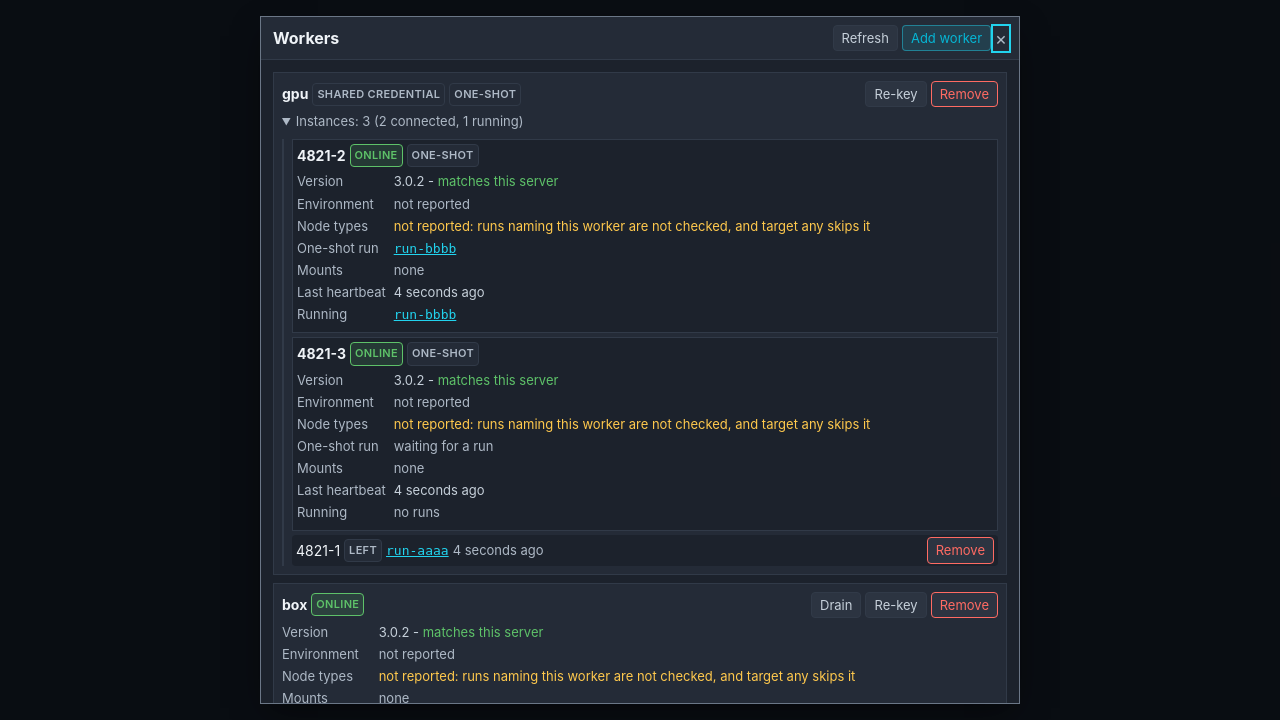
Test case: WorkersPanel › groups the instances of a shared credential under it (#845)
This screenshot has width=1280, height=720.
Expected: the button "run-aaaa" is shown, left=386, top=543, right=449, bottom=558
Expected: the text titled "Last heartbeat" in the row of "4821-1" reads "4 seconds ago", left=453, top=542, right=544, bottom=558
Click the button "Remove" in the row of "Shared credential": (964, 94) left=931, top=81, right=998, bottom=107
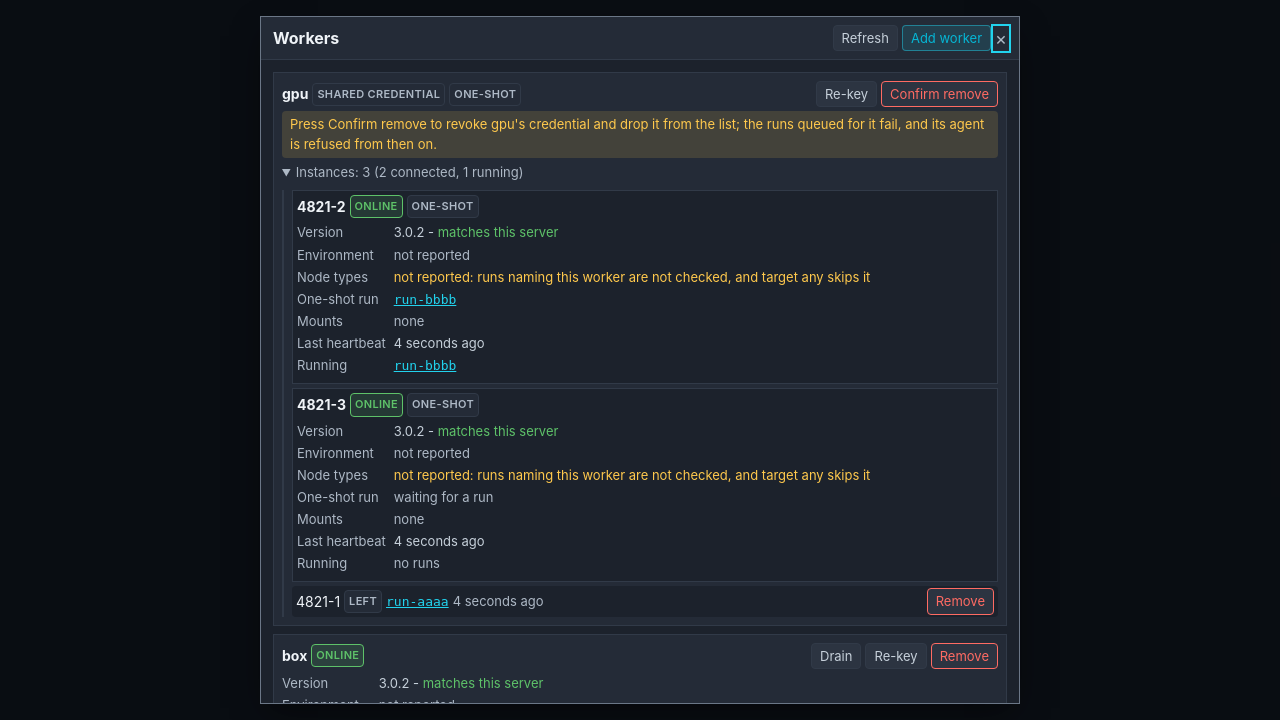
Expected: the button "Confirm remove" is shown
Click the button "Confirm remove": (940, 94) left=881, top=81, right=998, bottom=107
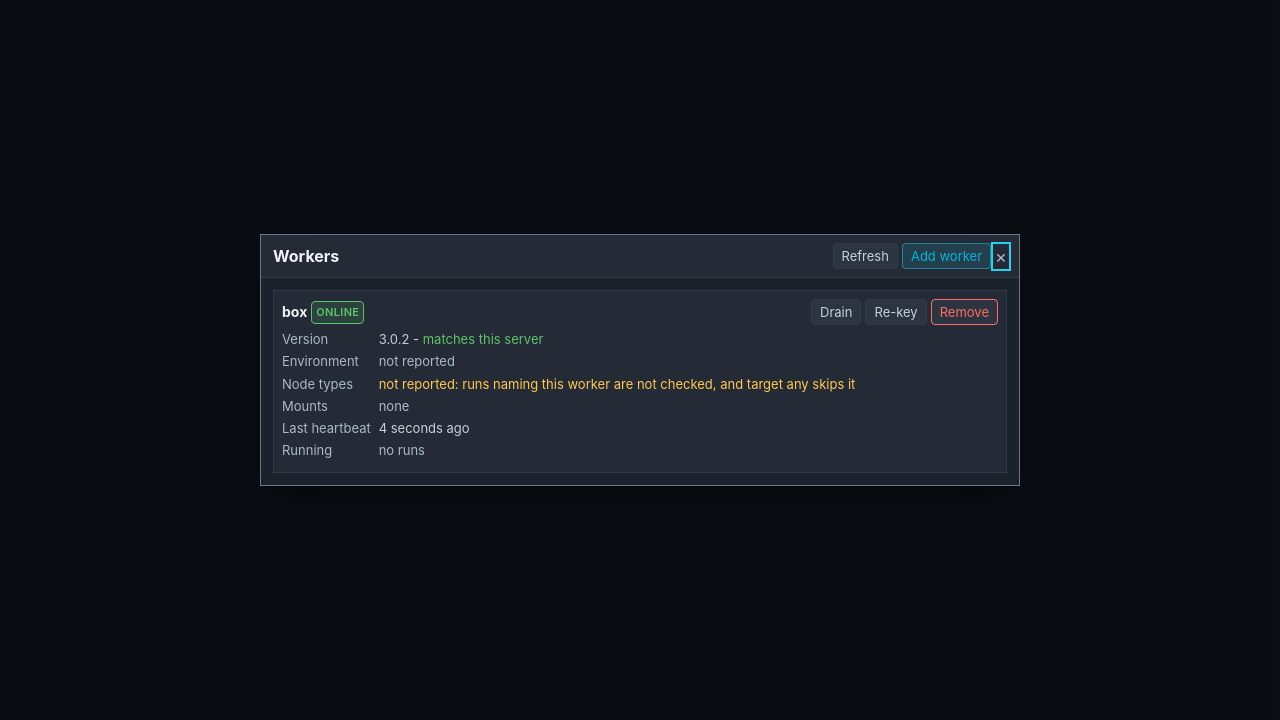
Expected: the button "Re-key" is shown, left=866, top=299, right=927, bottom=325
Expected: the heading "Instances:" is gone
